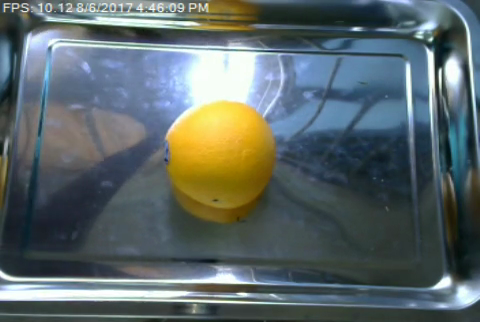Orange: (162, 100, 276, 209)
